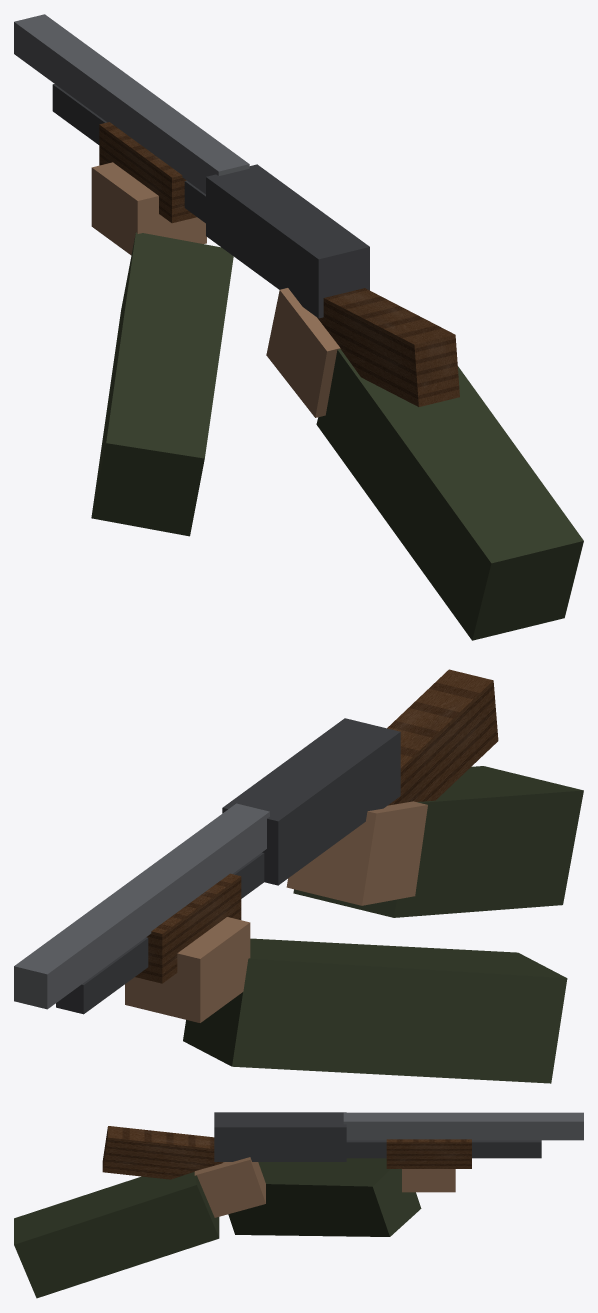
File: shotgun.glb
The picture shows the model from 3 angles, top to bottom: view 1: azimuth 30°, elevation 25°; view 2: azimuth 150°, elevation 25°; view 3: azimuth 270°, elevation 25°; orthographic projection. The views are drawn at different scales.
Parts seen in each view (by area): view 1: shotgun_4, shotgun_0, shotgun_2, shotgun_1, shotgun_3; view 2: shotgun_4, shotgun_0, shotgun_3, shotgun_1, shotgun_2; view 3: shotgun_4, shotgun_0, shotgun_2, shotgun_1, shotgun_3.
Boxes of the visible parts, box(x1,y1,x2,y2) form: shotgun_4: box(91, 232, 583, 640); shotgun_0: box(52, 84, 369, 318); shotgun_2: box(99, 122, 459, 406); shotgun_1: box(14, 14, 249, 194); shotgun_3: box(91, 162, 340, 417); shotgun_4: box(183, 766, 583, 1083); shotgun_0: box(56, 718, 400, 1014); shotgun_3: box(125, 801, 427, 1022); shotgun_1: box(14, 803, 269, 1009); shotgun_2: box(135, 669, 498, 983); shotgun_4: box(14, 1158, 421, 1298); shotgun_0: box(214, 1112, 541, 1161); shotgun_2: box(102, 1126, 471, 1179); shotgun_1: box(343, 1112, 583, 1140); shotgun_3: box(194, 1157, 455, 1217).
Bounding box in the file's own units: 0.4821 × 0.4575 × 1.46.
Materials: 5 (1 with a texture image).
